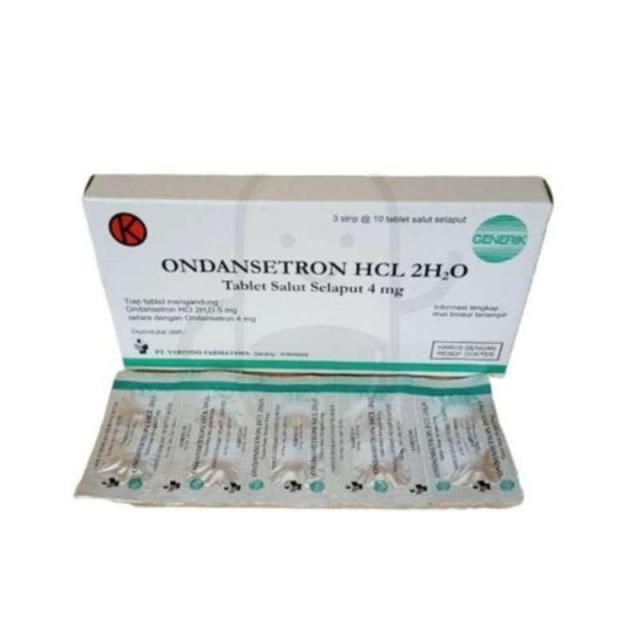drug-name: (155, 253, 349, 280)
